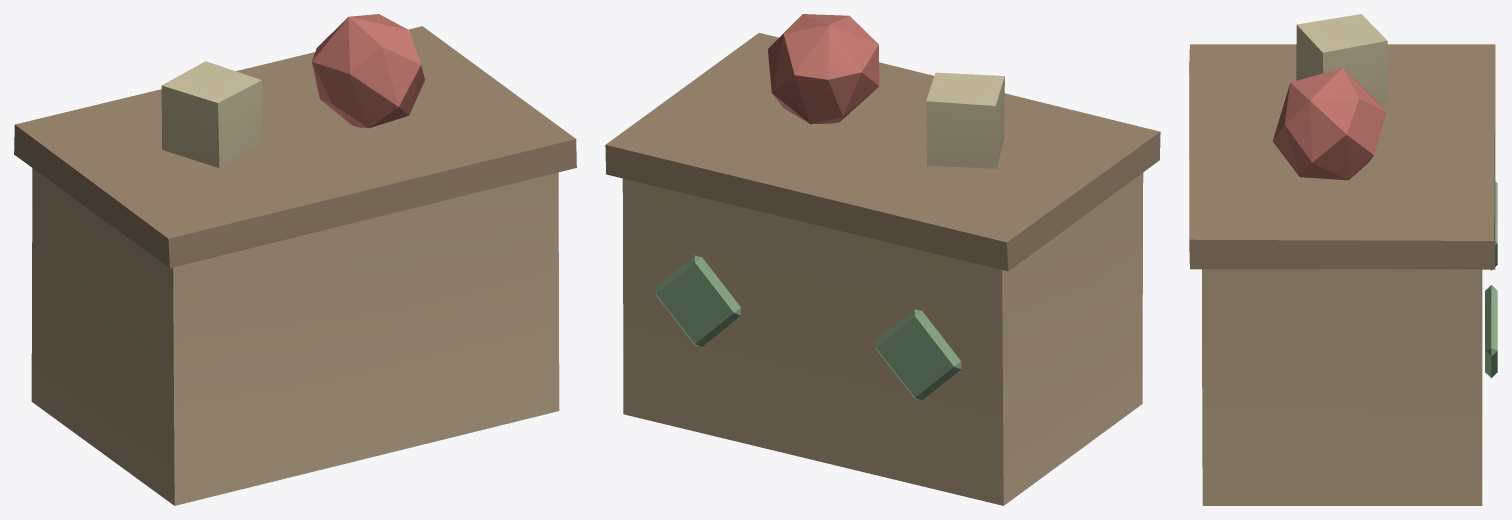
File: furn_toy_box__oak_low.glb
3 renders of one model, left to right at view 1: azimuth 30°, elevation 25°; view 2: azimuth 150°, elevation 25°; view 3: azimuth 270°, elevation 25°, orthographic.
Size of the model in its own units: 0.7323 by 0.6457 by 0.4858.
